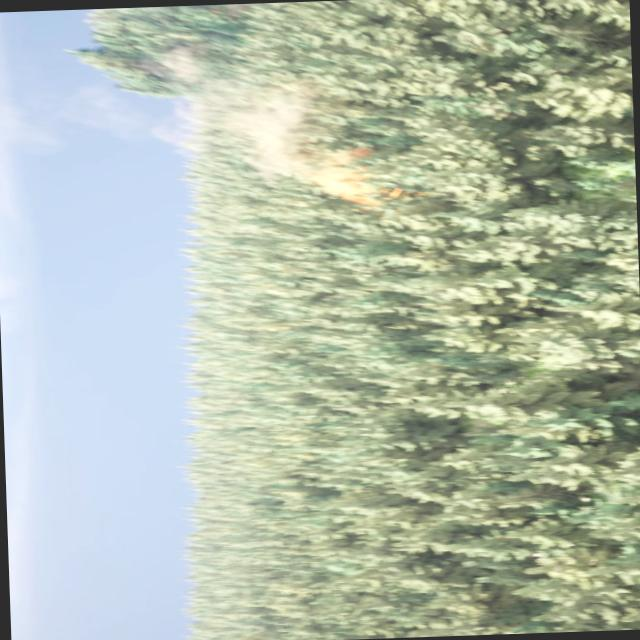fire: (309, 142, 419, 207)
smoke: (0, 68, 394, 212)
